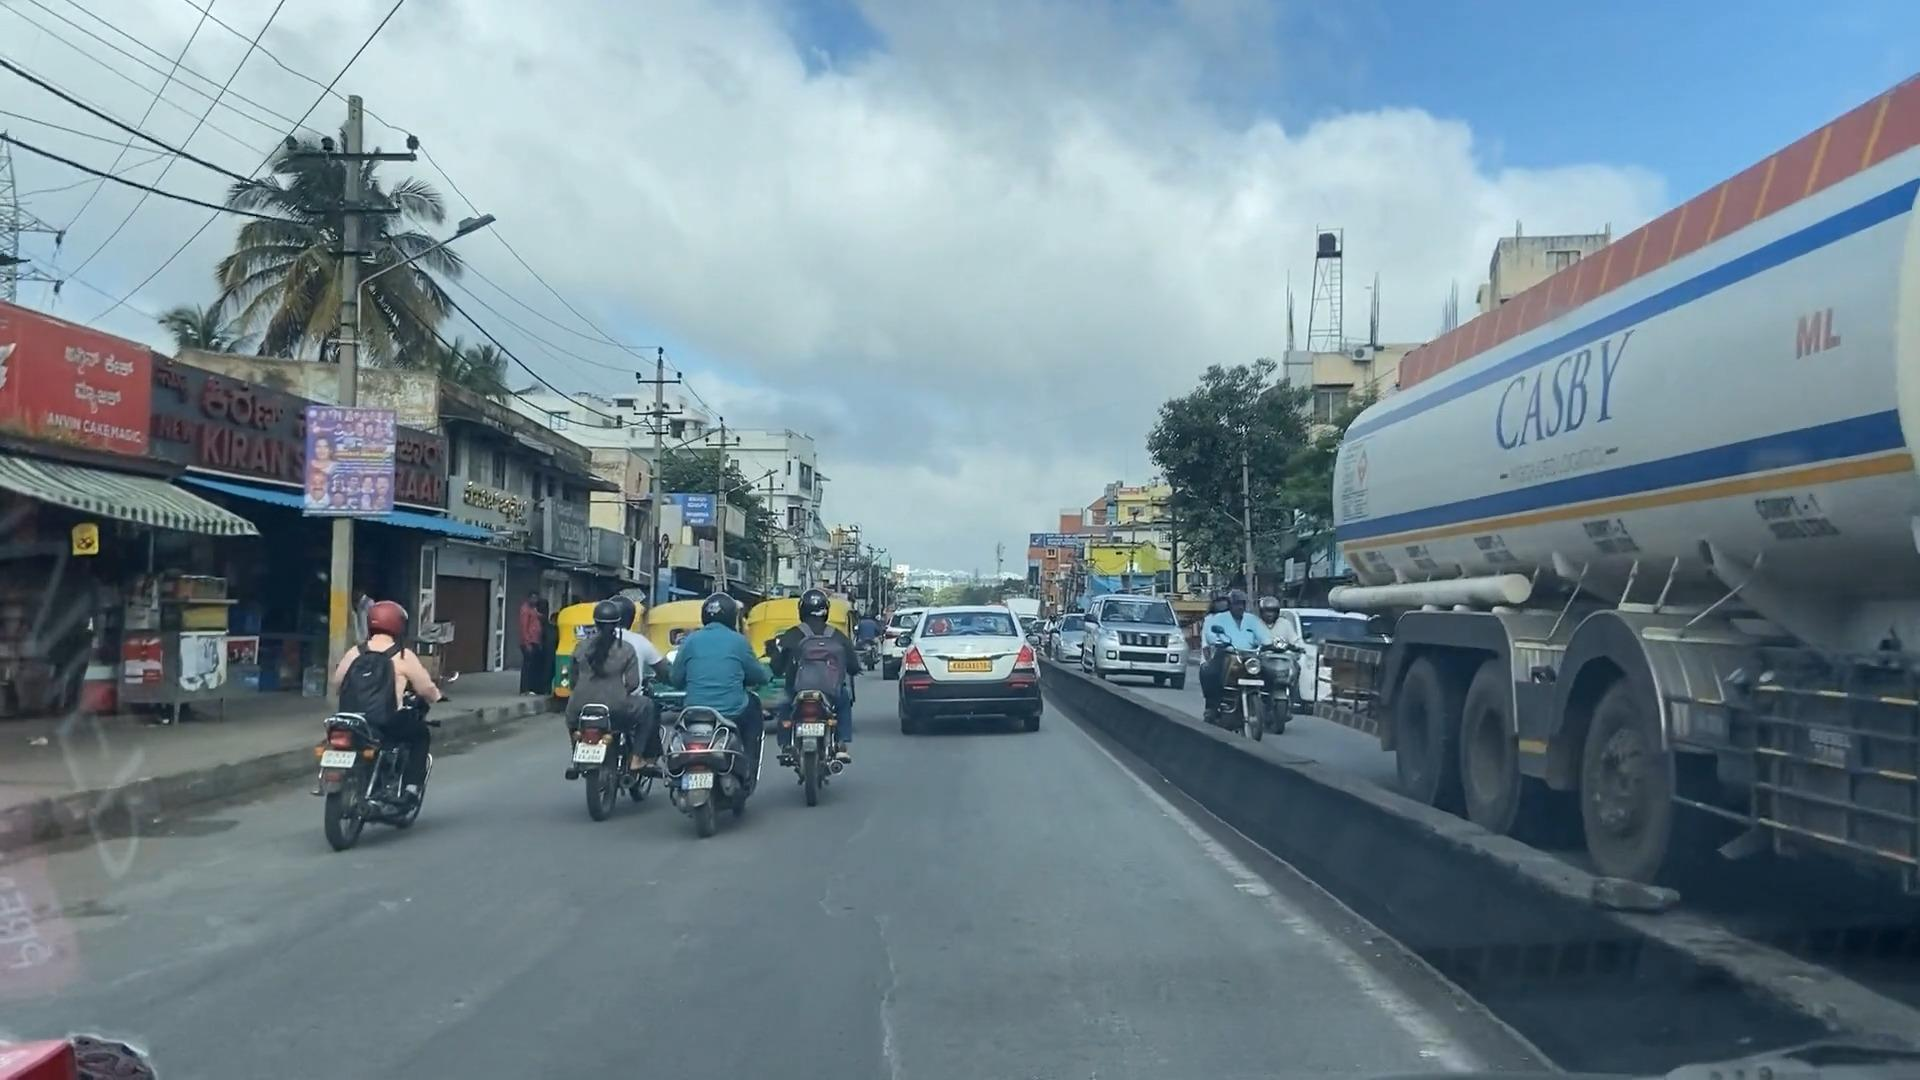LMV: (657, 592, 742, 856), (902, 607, 1043, 742), (771, 596, 848, 847)
RoadDamages: (831, 911, 934, 1075)
